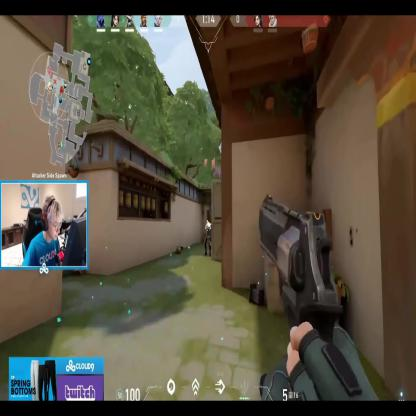enemy: (204, 218, 211, 256)
enemy_head: (206, 219, 209, 224)
